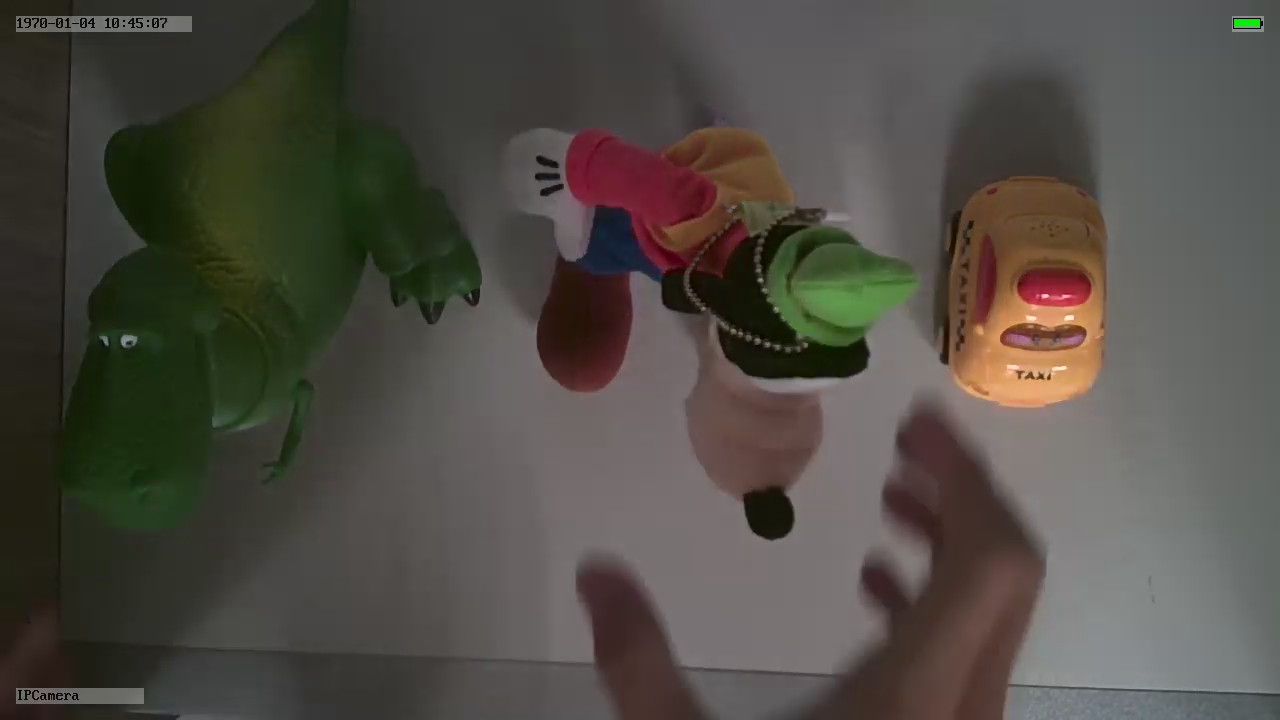goofy: (497, 115, 923, 544)
